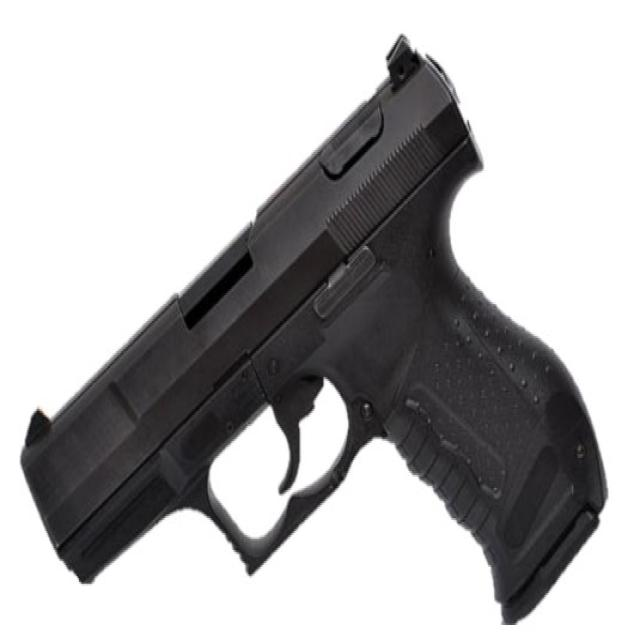pistol: (18, 25, 617, 633)
